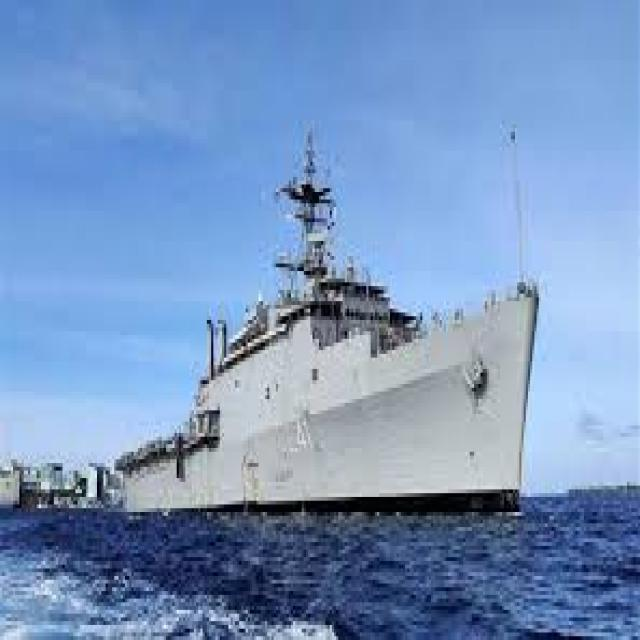navalvessels: (93, 138, 539, 538)
